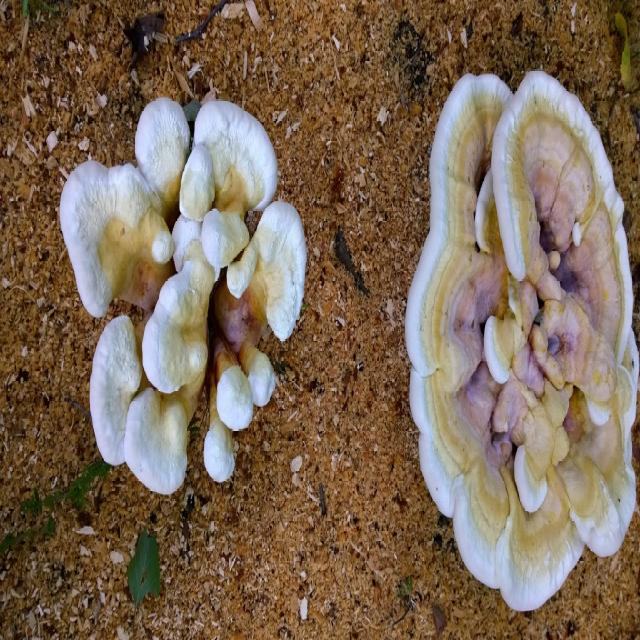Mushroom: (408, 74, 590, 612), (491, 66, 639, 554), (55, 157, 172, 316), (180, 92, 274, 282), (194, 302, 276, 482), (139, 224, 208, 430), (228, 198, 314, 346), (82, 312, 158, 476), (132, 92, 192, 216), (125, 393, 189, 492)
